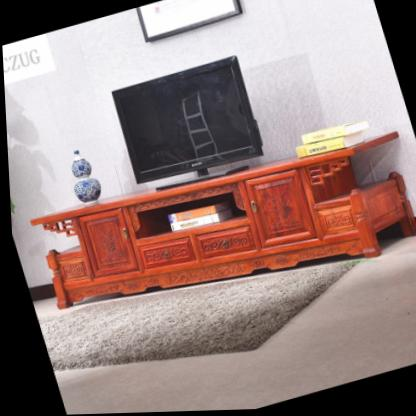TV stand: (22, 115, 416, 345)
